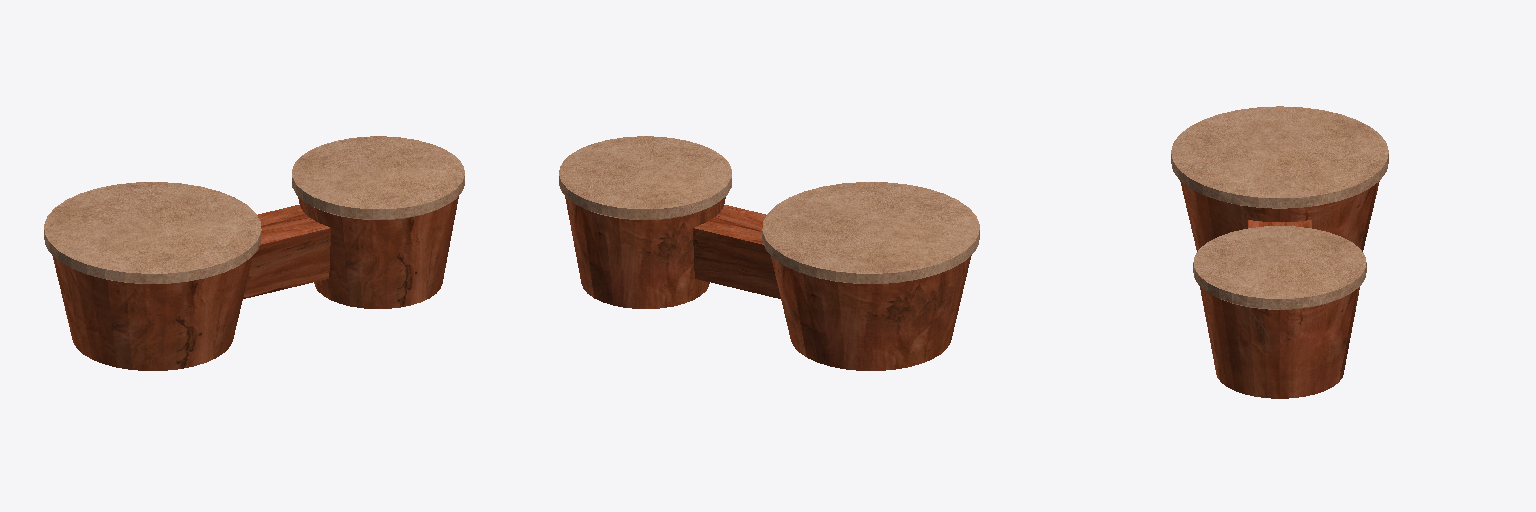
The picture shows the model from 3 angles: view 1: azimuth 30°, elevation 25°; view 2: azimuth 150°, elevation 25°; view 3: azimuth 270°, elevation 25°; orthographic projection.
Visible parts, largest first — view 1: Circle; view 2: Circle; view 3: Circle.
Boxes of the visible parts, box(x1,y1,x2,y2) form: Circle: box(44, 136, 464, 370); Circle: box(559, 136, 979, 370); Circle: box(1171, 106, 1388, 398).
Size of the model in its own units: 4.35 by 1.18 by 2.08.
Materials: 3 (2 with a texture image).